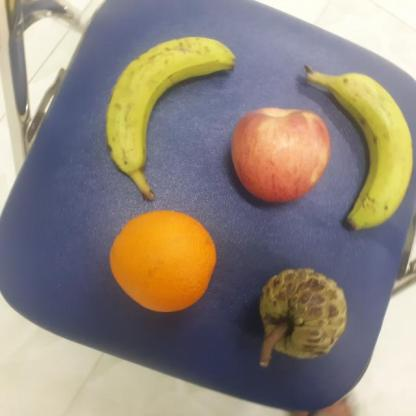annona: (253, 268, 351, 360)
apple: (227, 107, 331, 205)
banana: (102, 35, 241, 170), (323, 59, 415, 232)
orange: (108, 209, 222, 315)
